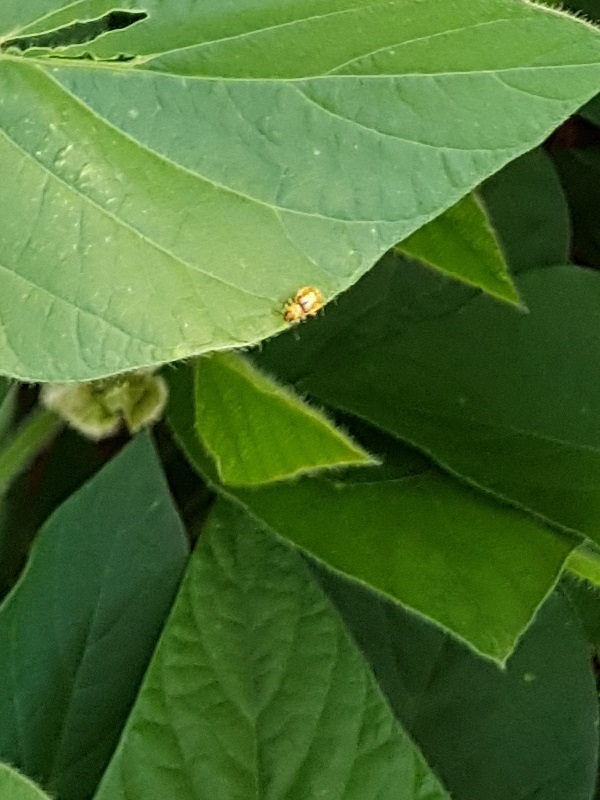Diabrotica_speciosa: (264, 272, 339, 345)
